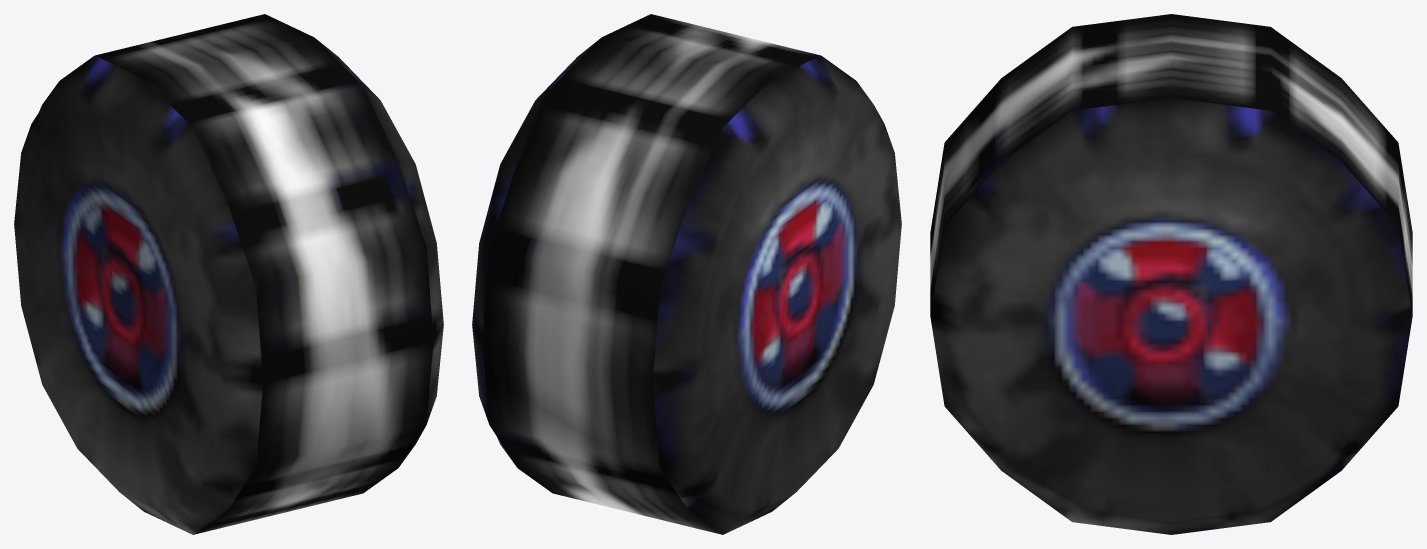
File: cr5whl.obj
3 views of the same model, side by side, from view 1: azimuth 30°, elevation 25°; view 2: azimuth 150°, elevation 25°; view 3: azimuth 270°, elevation 25° (orthographic).
Parts seen in each view (by area): view 1: object.001; view 2: object.001; view 3: object.001.
Boxes of the visible parts, box(x1,y1,x2,y2) form: object.001: box(14, 14, 443, 534); object.001: box(472, 14, 901, 534); object.001: box(930, 14, 1412, 534).
Size of the model in its own units: 18 by 34 by 34.
Materials: 2 (2 with a texture image).
